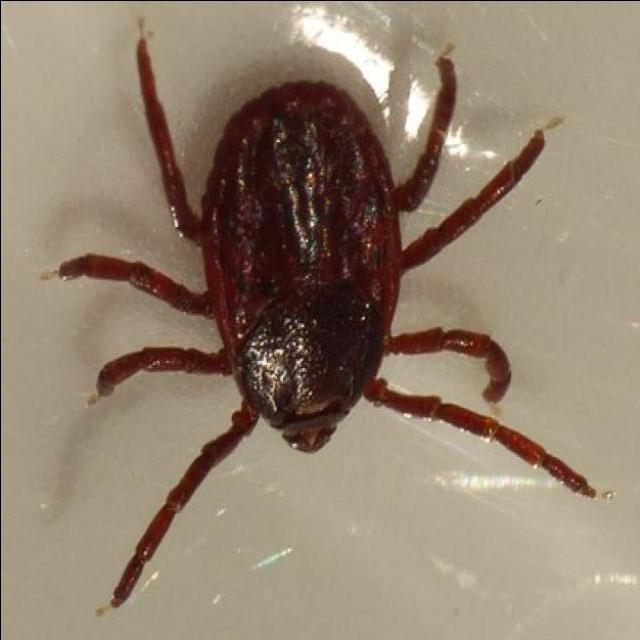Rhipicephalus Sanguineus-F: (55, 32, 603, 605)
